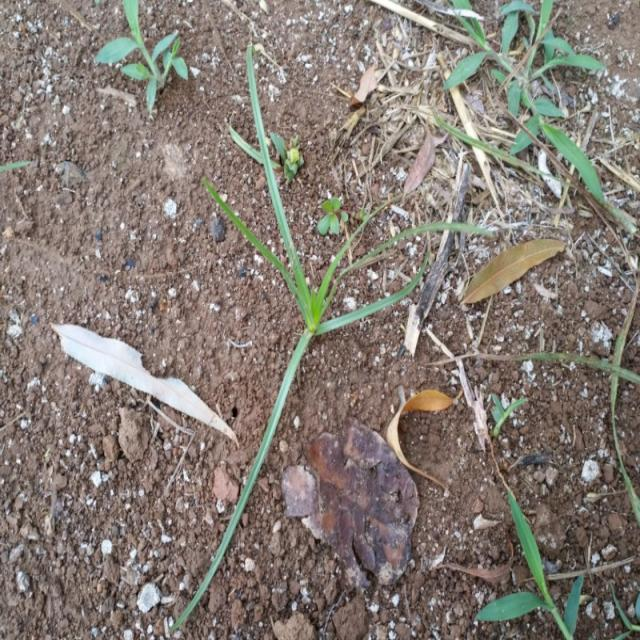sedge: (170, 88, 460, 518)
